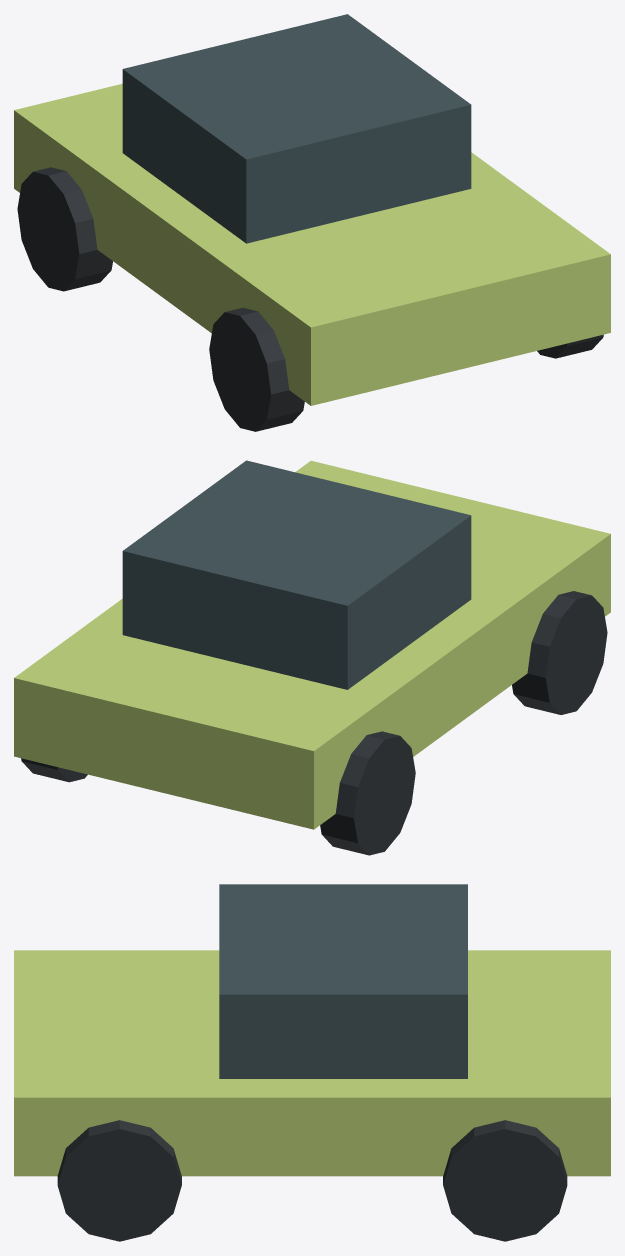
Rendered from buggy.glb.
The picture shows the model from 3 angles, top to bottom: view 1: azimuth 30°, elevation 25°; view 2: azimuth 150°, elevation 25°; view 3: azimuth 270°, elevation 25°; orthographic projection.
Parts seen in each view (by area): view 1: part_0, part_1, part_2, part_3, part_5; view 2: part_0, part_1, part_3, part_2, part_4; view 3: part_0, part_1, part_4, part_5.
Part boxes in pixels (<box>): part_0: <box>14,83,610,405</box>; part_1: <box>122,14,471,243</box>; part_2: <box>17,167,112,291</box>; part_3: <box>209,307,304,431</box>; part_5: <box>537,334,603,358</box>; part_0: <box>14,460,610,829</box>; part_1: <box>122,460,471,689</box>; part_3: <box>512,591,607,714</box>; part_2: <box>320,731,415,855</box>; part_4: <box>21,758,87,782</box>; part_0: <box>14,950,610,1176</box>; part_1: <box>219,884,467,1078</box>; part_4: <box>443,1120,567,1241</box>; part_5: <box>57,1120,181,1241</box>.
Size of the model in its own units: 3.14 by 1.95 by 4.8.
